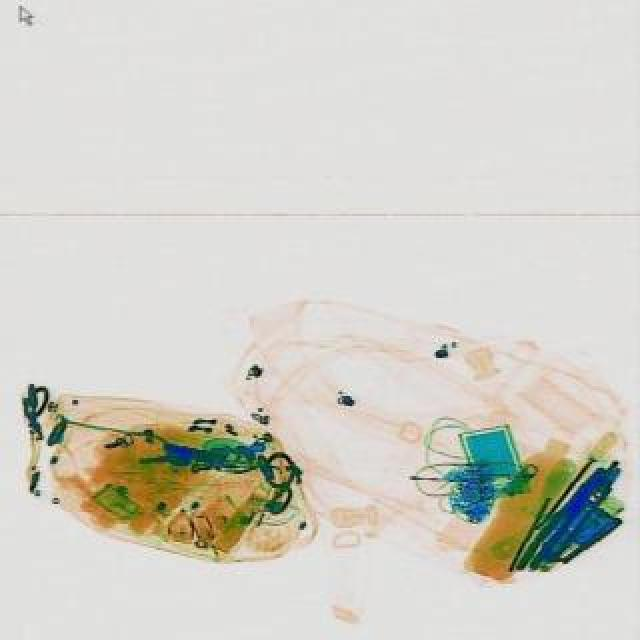wrench: (508, 462, 612, 578)
